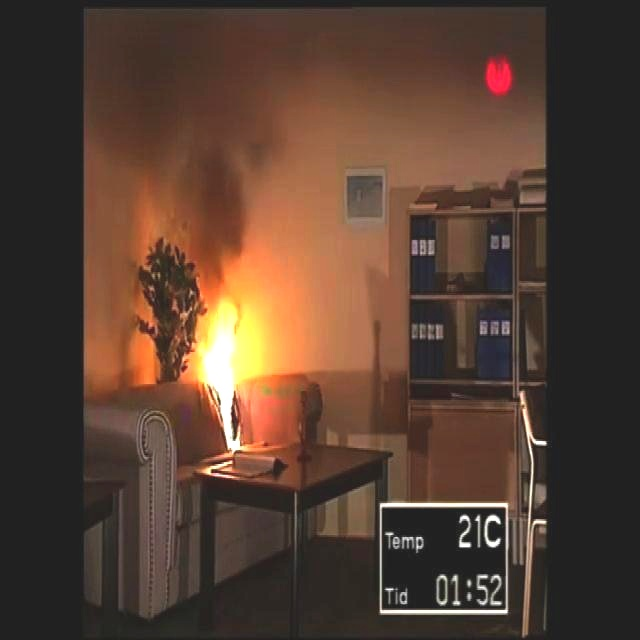fire: (190, 307, 268, 449)
